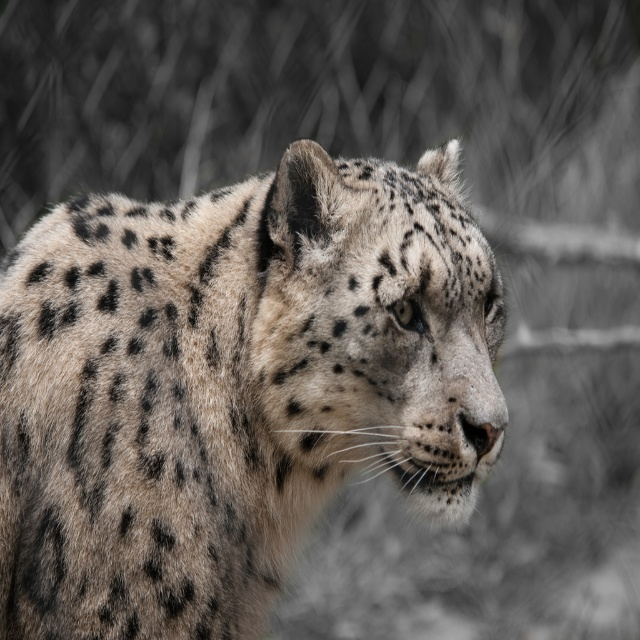Jaguar: (0, 131, 510, 639)
